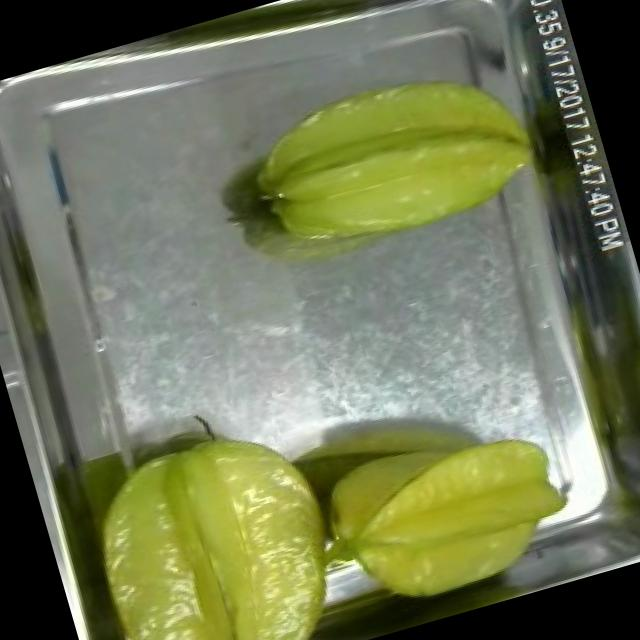fruit: (216, 34, 559, 284), (54, 391, 374, 640), (309, 402, 597, 636)
